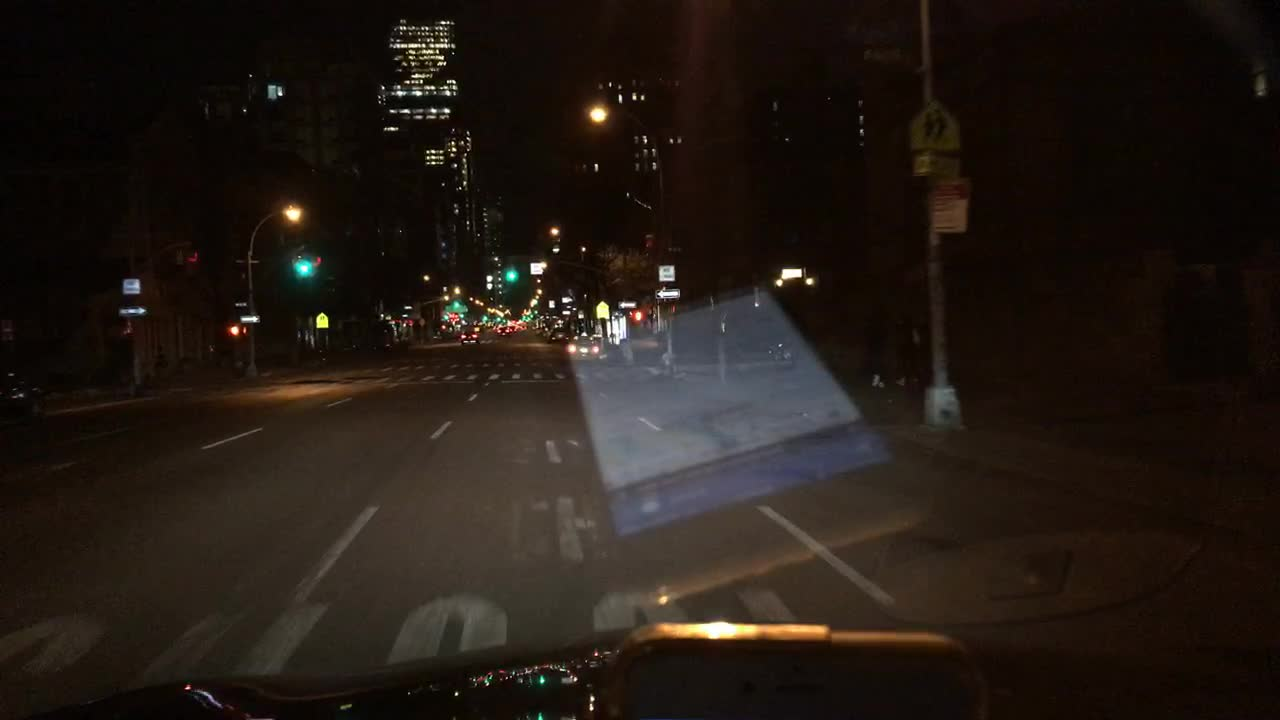car: (0, 346, 52, 469), (563, 334, 606, 365), (542, 323, 571, 345), (457, 323, 481, 346), (495, 324, 515, 336), (493, 310, 502, 324), (526, 310, 533, 322), (519, 323, 529, 331), (483, 309, 488, 323), (521, 310, 526, 322)
traffic light: (291, 247, 311, 277), (177, 245, 199, 268), (227, 321, 250, 339), (310, 249, 321, 277), (628, 308, 645, 323), (504, 264, 514, 281), (451, 301, 461, 311)
traffic sign: (909, 99, 960, 152), (933, 180, 969, 234), (910, 155, 960, 177), (122, 277, 142, 296), (653, 286, 680, 300), (117, 306, 149, 316), (658, 265, 675, 281), (593, 301, 608, 319), (315, 314, 330, 326), (229, 299, 247, 309), (617, 300, 637, 306), (239, 316, 260, 321)
